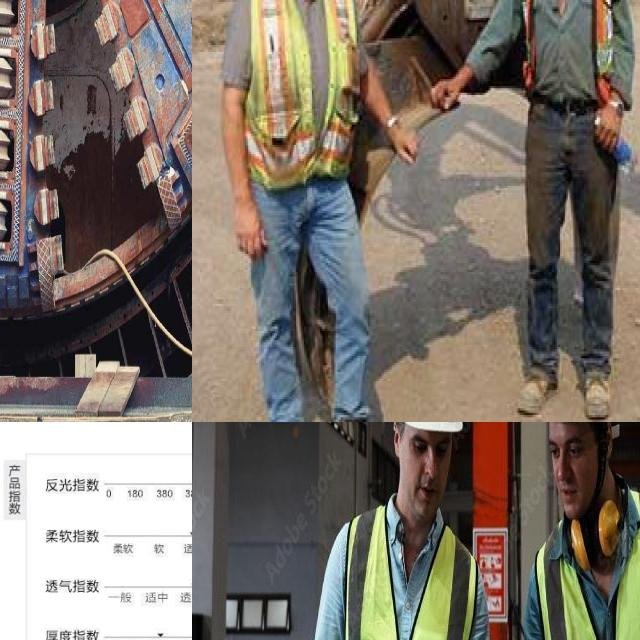Ear-protection: (547, 494, 640, 551)
hand_noglove: (584, 91, 630, 154), (224, 213, 272, 265), (424, 72, 464, 124), (392, 118, 422, 174)
person: (243, 0, 368, 419), (298, 422, 505, 640), (513, 0, 625, 392), (498, 422, 640, 640)
shoes: (574, 356, 626, 422), (508, 354, 558, 415)
vest: (332, 497, 483, 640), (243, 0, 366, 172), (531, 505, 640, 640), (521, 0, 630, 97)
